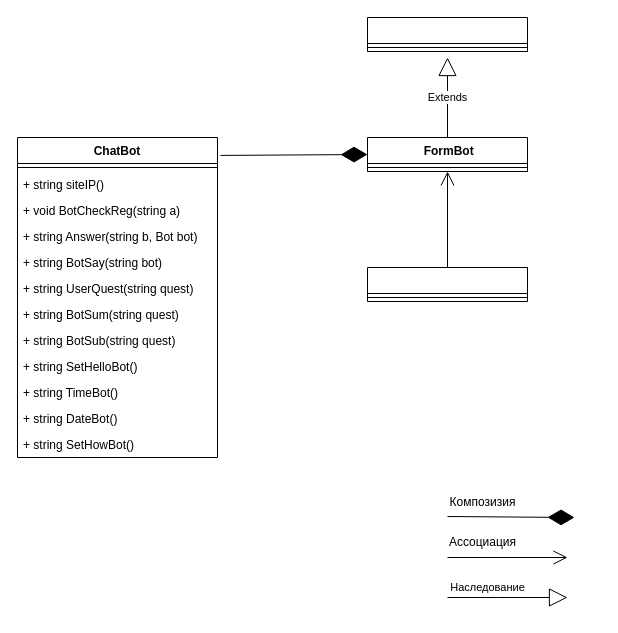
Some shapes in this 618 by 633 pixel diagram are drawn without their labels. The centre of each missing label's shape, as x and y in pixels:
Form: [447,34]
FormLogin: [447,284]
